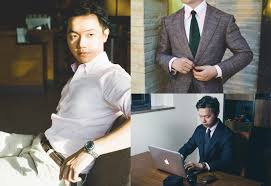F_M_suit jacket: (155, 6, 255, 91), (167, 121, 239, 171)
F_shirt: (46, 52, 131, 160)
F_tie: (185, 10, 202, 54)
